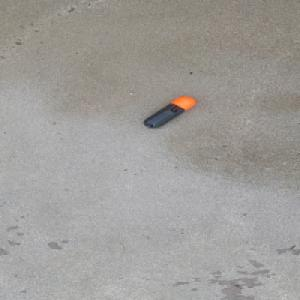PlasticPart: (142, 95, 196, 129)
